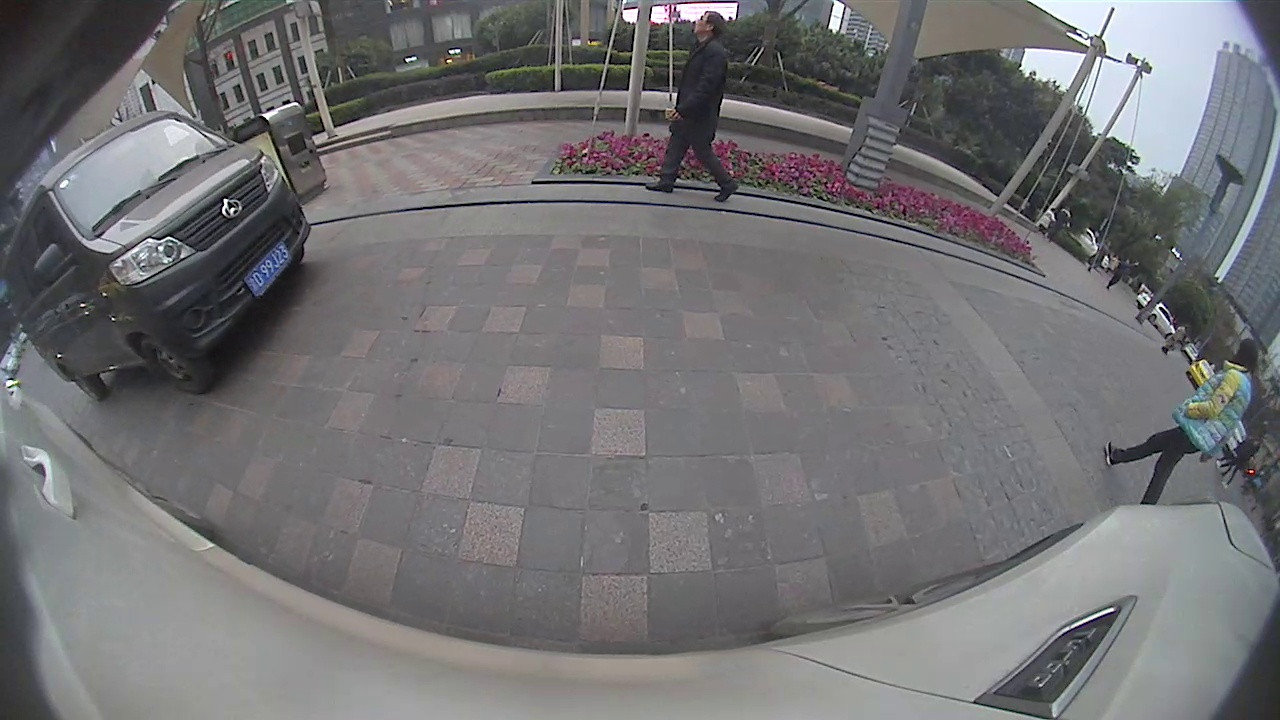car: (2, 109, 313, 402)
front: (145, 334, 212, 393)
person: (1137, 336, 1260, 506), (687, 9, 738, 203)
